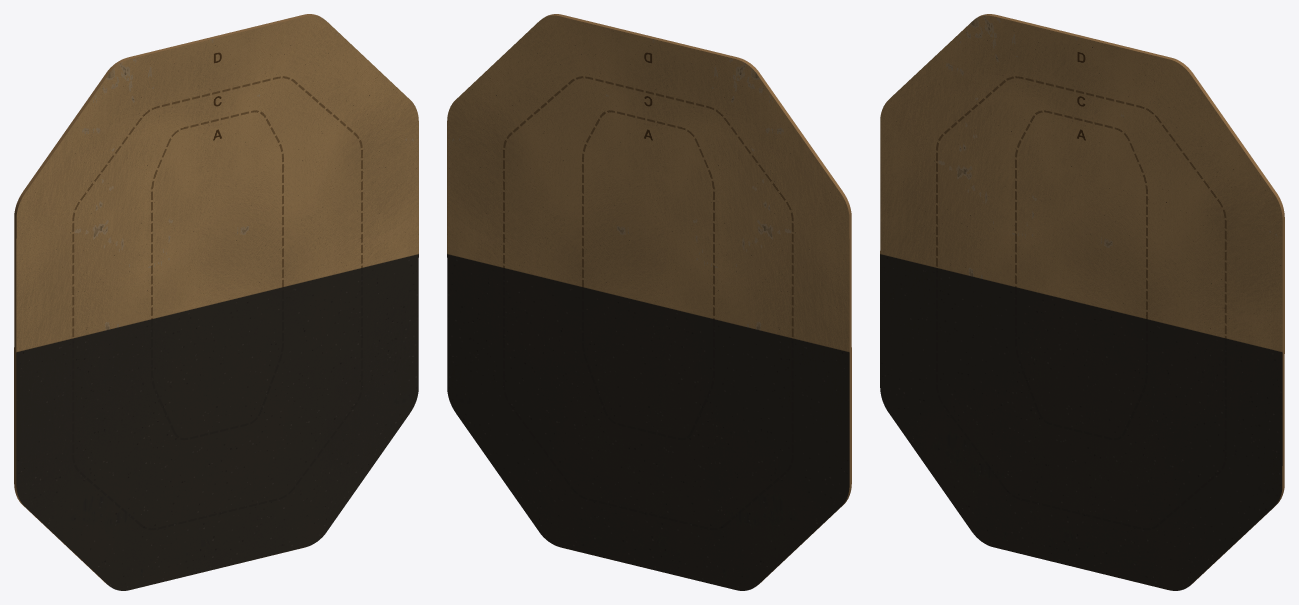
The model's file is obj_paper_hc_bottom_card.glb.
3 renders of one model, left to right at view 1: azimuth 30°, elevation 25°; view 2: azimuth 150°, elevation 25°; view 3: azimuth 330°, elevation 25°, orthographic.
Visible parts, largest first — view 1: card; view 2: card; view 3: card.
Boxes of the visible parts, x1=… form: card: x1=14, y1=14, x2=418, y2=590; card: x1=447, y1=14, x2=851, y2=590; card: x1=880, y1=14, x2=1284, y2=590.
Bounding box in the file's own units: 0.46 × 0.58 × 0.0045.
2 materials, 1 textured.
